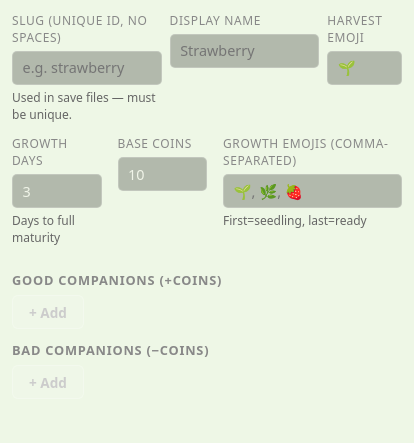
ContentForms — PlantForm › adds a companion good entry on button click
Click the 1st button "+ Add" at (48, 312), box [12,295,84,329]
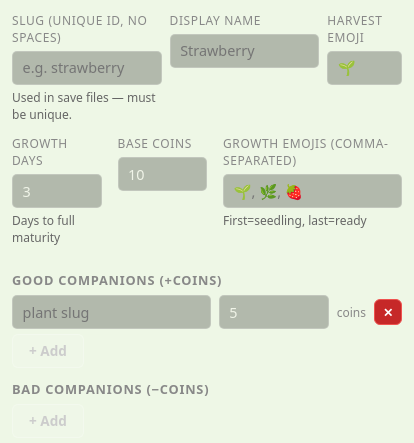
Check: the field with placeholder "plant slug" is shown, box [12,295,211,329]
